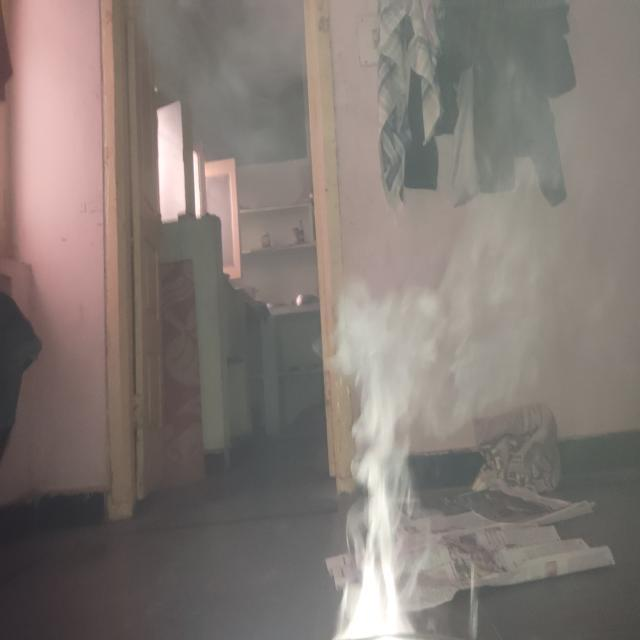fire: (315, 258, 546, 638)
